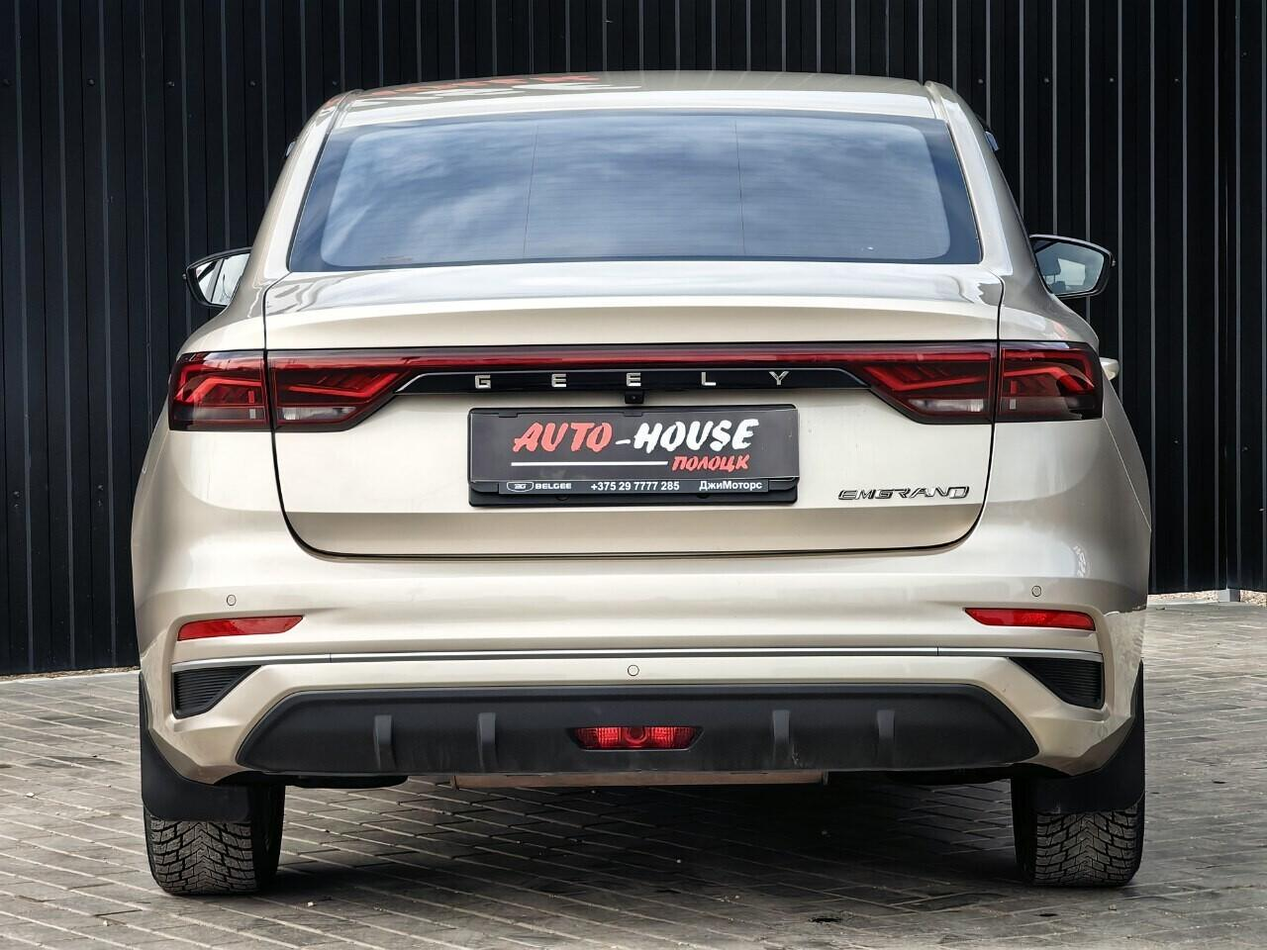Emgrand_2021: (119, 68, 1162, 909)
